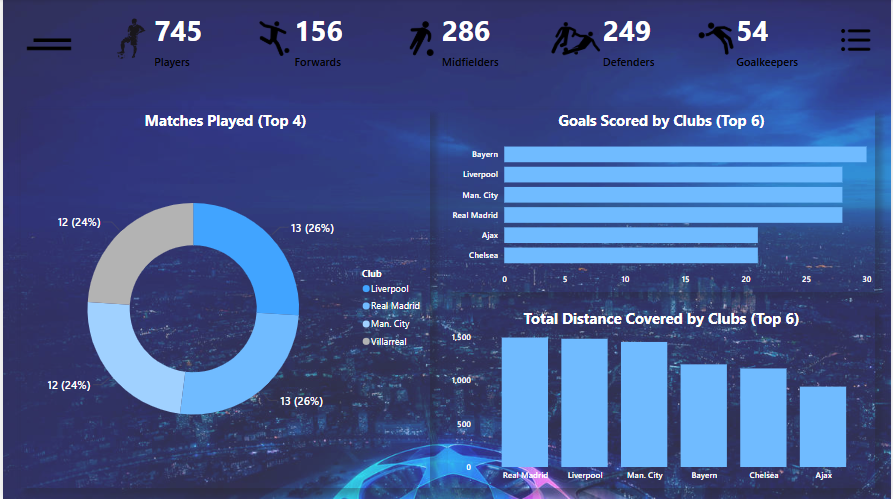

This screenshot's page, from the dashboard's own definition file:
{"tool":"powerbi","page":{"name":"Overview","canvas":[1280,720],"ordinal":1},"visuals":[{"type":"cardVisual","fields":{"Data":["CountNonNull(Key_Stats.Player Name)","Key_Stats.Total Forwards","Key_Stats.Total Midfielders","Key_Stats.Total Defenders","Key_Stats.Total Goalkeepers"]},"box":[136.8,0,1064.2,118.1],"z":0},{"type":"columnChart","title":"Total Distance Covered by Clubs (Top 6)","fields":{"Category":["Key_Stats.Club"],"Y":["Sum(Key_Stats.Distance Covered (in Km.))"]},"box":[641.5,445,614.7,259],"z":1000},{"type":"barChart","title":"Goals Scored by Clubs (Top 6)","fields":{"Category":["Key_Stats.Club"],"Y":["Sum(Key_Stats.Goals)"]},"box":[641.5,159.3,614.7,262],"z":2000},{"type":"donutChart","title":"Matches Played (Top 4)","fields":{"Category":["Key_Stats.Club"],"Y":["Max(Key_Stats.Matches Played)"]},"box":[25.9,159.8,589,544.3],"z":3000},{"type":"image","box":[26.2,19.6,80.2,78.6],"z":4000},{"type":"image","box":[1201,33.1,53.3,51.8],"z":6000}]}

Visuals, with their boxes in screenshot pixels (x1, y1, x2, y2), scaled from the page's 1280x720 canvas onto the 893x499 screenshot:
cardVisual - CountNonNull(Key_Stats.Player Name) x Key_Stats.Total Forwards: {"x1": 95, "y1": 0, "x2": 838, "y2": 82}
"Total Distance Covered by Clubs (Top 6)" columnChart: {"x1": 448, "y1": 308, "x2": 876, "y2": 488}
"Goals Scored by Clubs (Top 6)" barChart: {"x1": 448, "y1": 110, "x2": 876, "y2": 292}
"Matches Played (Top 4)" donutChart: {"x1": 18, "y1": 111, "x2": 429, "y2": 488}
image: {"x1": 18, "y1": 14, "x2": 74, "y2": 68}
image: {"x1": 838, "y1": 23, "x2": 875, "y2": 59}
